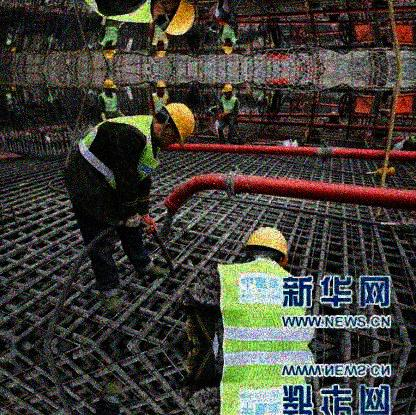helmet: (244, 226, 291, 267), (153, 103, 196, 147), (150, 1, 196, 36), (220, 38, 236, 57), (102, 44, 117, 61), (221, 82, 234, 99), (102, 80, 116, 95), (154, 44, 168, 59), (154, 80, 166, 96)
